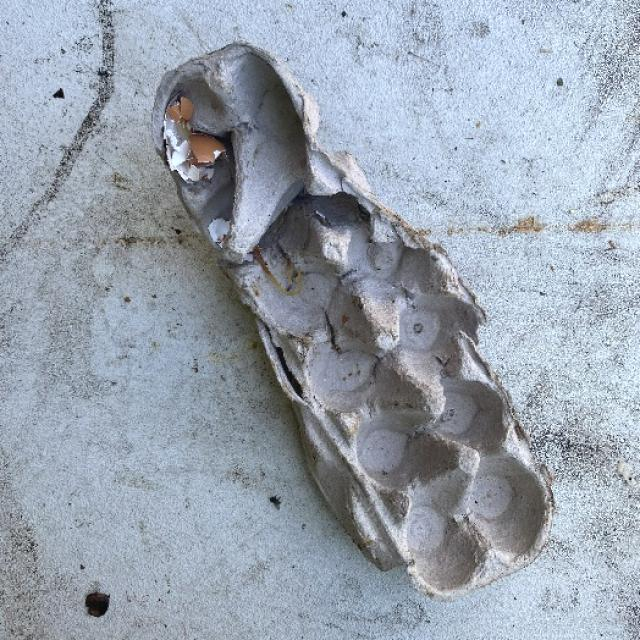kertas: (183, 37, 540, 605)
